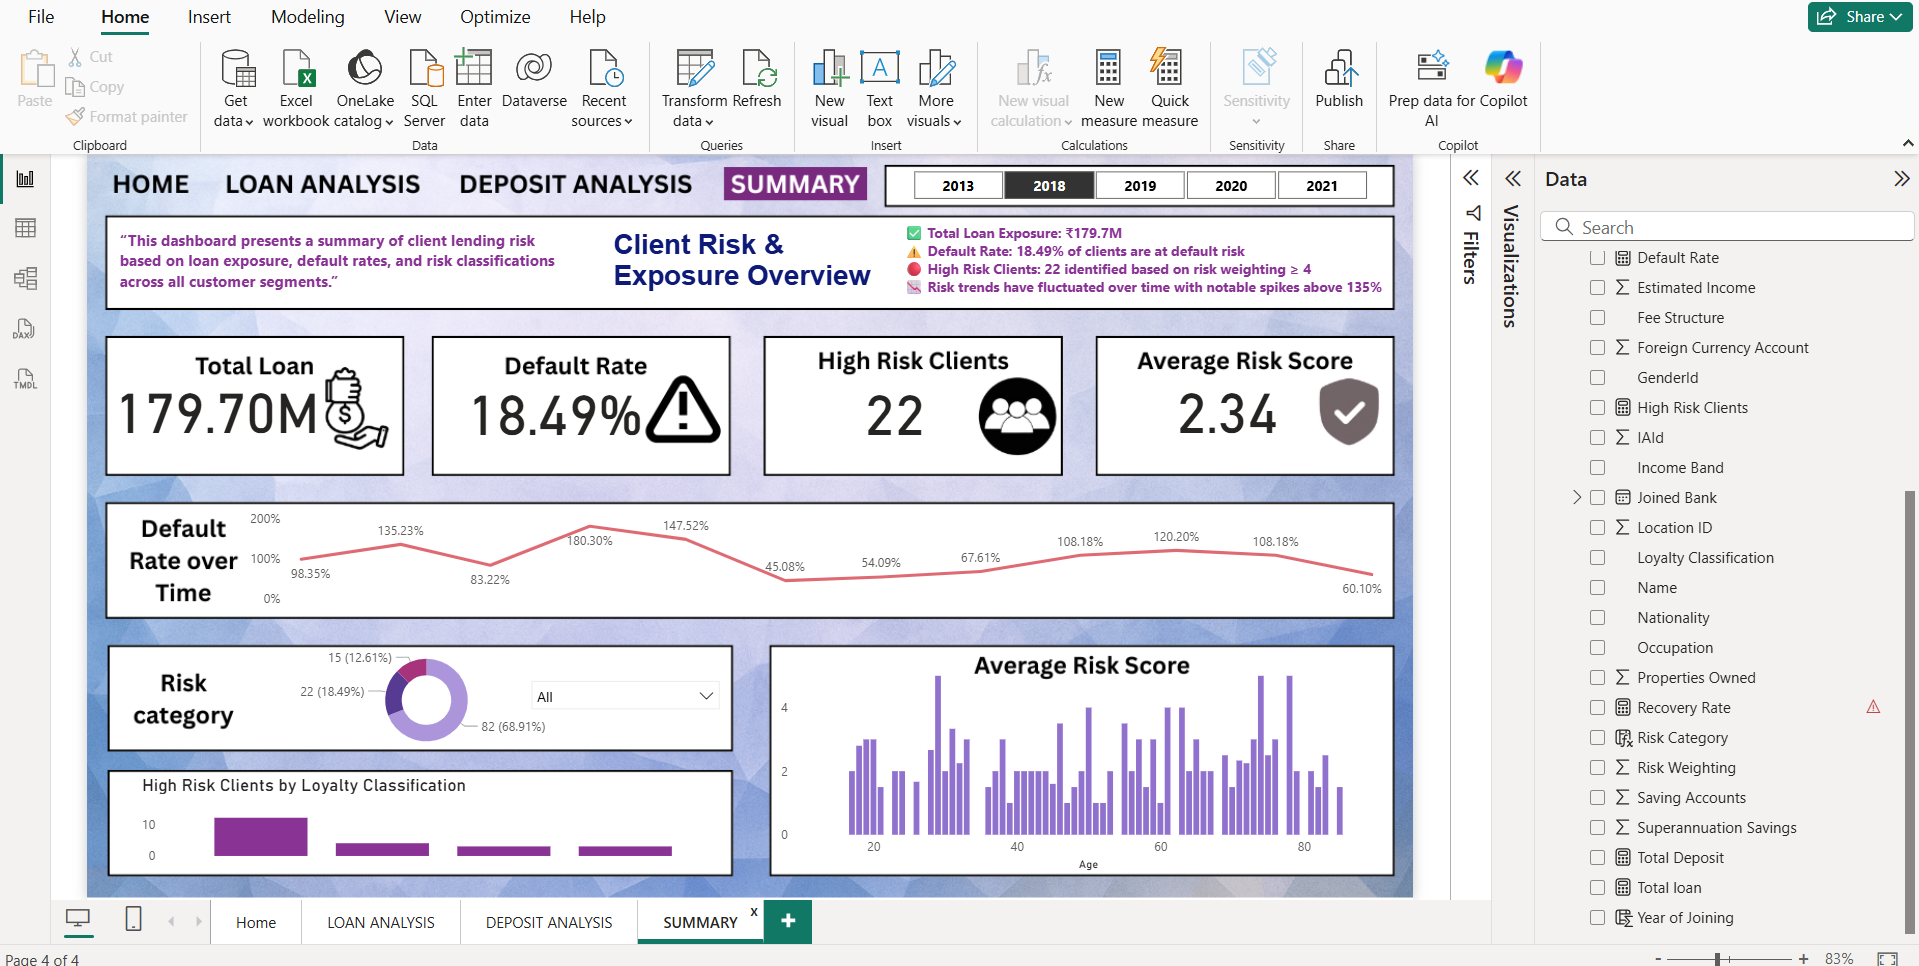

This screenshot's page, from the dashboard's own definition file:
{"tool":"powerbi","page":{"name":"SUMMARY","canvas":[1280,720],"ordinal":3},"visuals":[{"type":"actionButton","box":[17.8,9.6,86.4,39.8],"z":0},{"type":"actionButton","box":[126.2,9.6,201.7,39.8],"z":1000},{"type":"actionButton","box":[352.7,9.6,237.4,39.8],"z":2000},{"type":"card","fields":{"Values":["banking_cases customer.Total loan"]},"box":[14.3,187.1,221.4,112.9],"z":3000},{"type":"card","fields":{"Values":["banking_cases customer.Default Rate"]},"box":[343.1,188,218.2,113.9],"z":4000},{"type":"card","fields":{"Values":["banking_cases customer.High Risk Clients"]},"box":[671,188,218.2,113.9],"z":5000},{"type":"card","fields":{"Values":["banking_cases customer.Average Risk Score"]},"box":[992.1,186.6,218.2,113.9],"z":6000},{"type":"lineChart","fields":{"Y":["banking_cases customer.Default Rate"],"Category":["banking_cases customer.Joined Bank.Variation.Date Hierarchy.Year","banking_cases customer.Joined Bank.Variation.Date Hierarchy.Month"]},"box":[152.3,337.6,1103.3,105.7],"z":7000},{"type":"donutChart","fields":{"Category":["banking_cases customer.Risk Category"],"Y":["CountNonNull(banking_cases customer.Client ID)"]},"box":[160.5,472,334.8,111.1],"z":8000},{"type":"slicer","fields":{"Values":["banking_cases customer.Nationality","banking_cases customer.Age","banking_cases customer.GenderId"]},"box":[418.5,498.1,201.7,76.8],"z":9000},{"type":"clusteredColumnChart","fields":{"Category":["banking_cases customer.Age"],"Y":["banking_cases customer.Average Risk Score"]},"box":[664.2,489.9,591.4,207.2],"z":10000},{"type":"lineClusteredColumnComboChart","fields":{"Category":["banking_cases customer.Loyalty Classification"],"Y":["banking_cases customer.High Risk Clients"]},"box":[48,598.3,572.2,93.3],"z":11000},{"type":"textbox","box":[780,61.4,475.7,85.7],"z":12000},{"type":"textbox","box":[27.1,67.1,445.7,75.7],"z":13000},{"type":"textbox","box":[502.9,67.1,272.9,128.6],"z":14000},{"type":"slicer","fields":{"Values":["banking_cases customer.Year of Joining"]},"box":[772.6,9.6,487.1,35.7],"z":15000}]}

Visuals, with their boxes on the page's 1280x720 design canvas (x1, y1, x2, y2). These are canvas units, not pixel positions in the 1919x966 screenshot, which may show the page scaled, cropped or inside an application window:
actionButton: 18, 10, 104, 49
actionButton: 126, 10, 328, 49
actionButton: 353, 10, 590, 49
card - banking_cases customer.Total loan: 14, 187, 236, 300
card - banking_cases customer.Default Rate: 343, 188, 561, 302
card - banking_cases customer.High Risk Clients: 671, 188, 889, 302
card - banking_cases customer.Average Risk Score: 992, 187, 1210, 300
lineChart - banking_cases customer.Default Rate x banking_cases customer.Joined Bank.Variation.Date Hierarchy.Year: 152, 338, 1256, 443
donutChart - banking_cases customer.Risk Category x CountNonNull(banking_cases customer.Client ID): 160, 472, 495, 583
slicer - banking_cases customer.Nationality x banking_cases customer.Age: 418, 498, 620, 575
clusteredColumnChart - banking_cases customer.Age x banking_cases customer.Average Risk Score: 664, 490, 1256, 697
lineClusteredColumnComboChart - banking_cases customer.Loyalty Classification x banking_cases customer.High Risk Clients: 48, 598, 620, 692
textbox: 780, 61, 1256, 147
textbox: 27, 67, 473, 143
textbox: 503, 67, 776, 196
slicer - banking_cases customer.Year of Joining: 773, 10, 1260, 45
